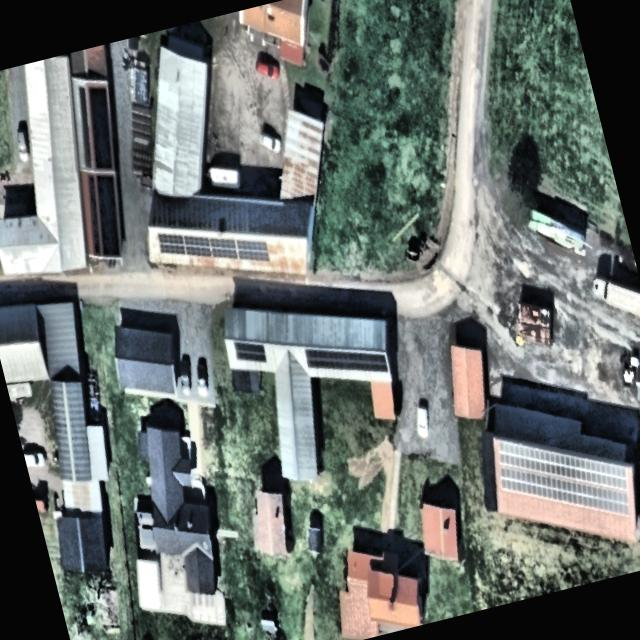roof_pv: (64, 77, 124, 173), (72, 166, 131, 259), (302, 329, 390, 389), (578, 447, 638, 526), (532, 440, 590, 513), (492, 435, 544, 504), (237, 230, 276, 274), (228, 333, 268, 370), (154, 226, 188, 261), (182, 228, 214, 261), (210, 230, 240, 263)
